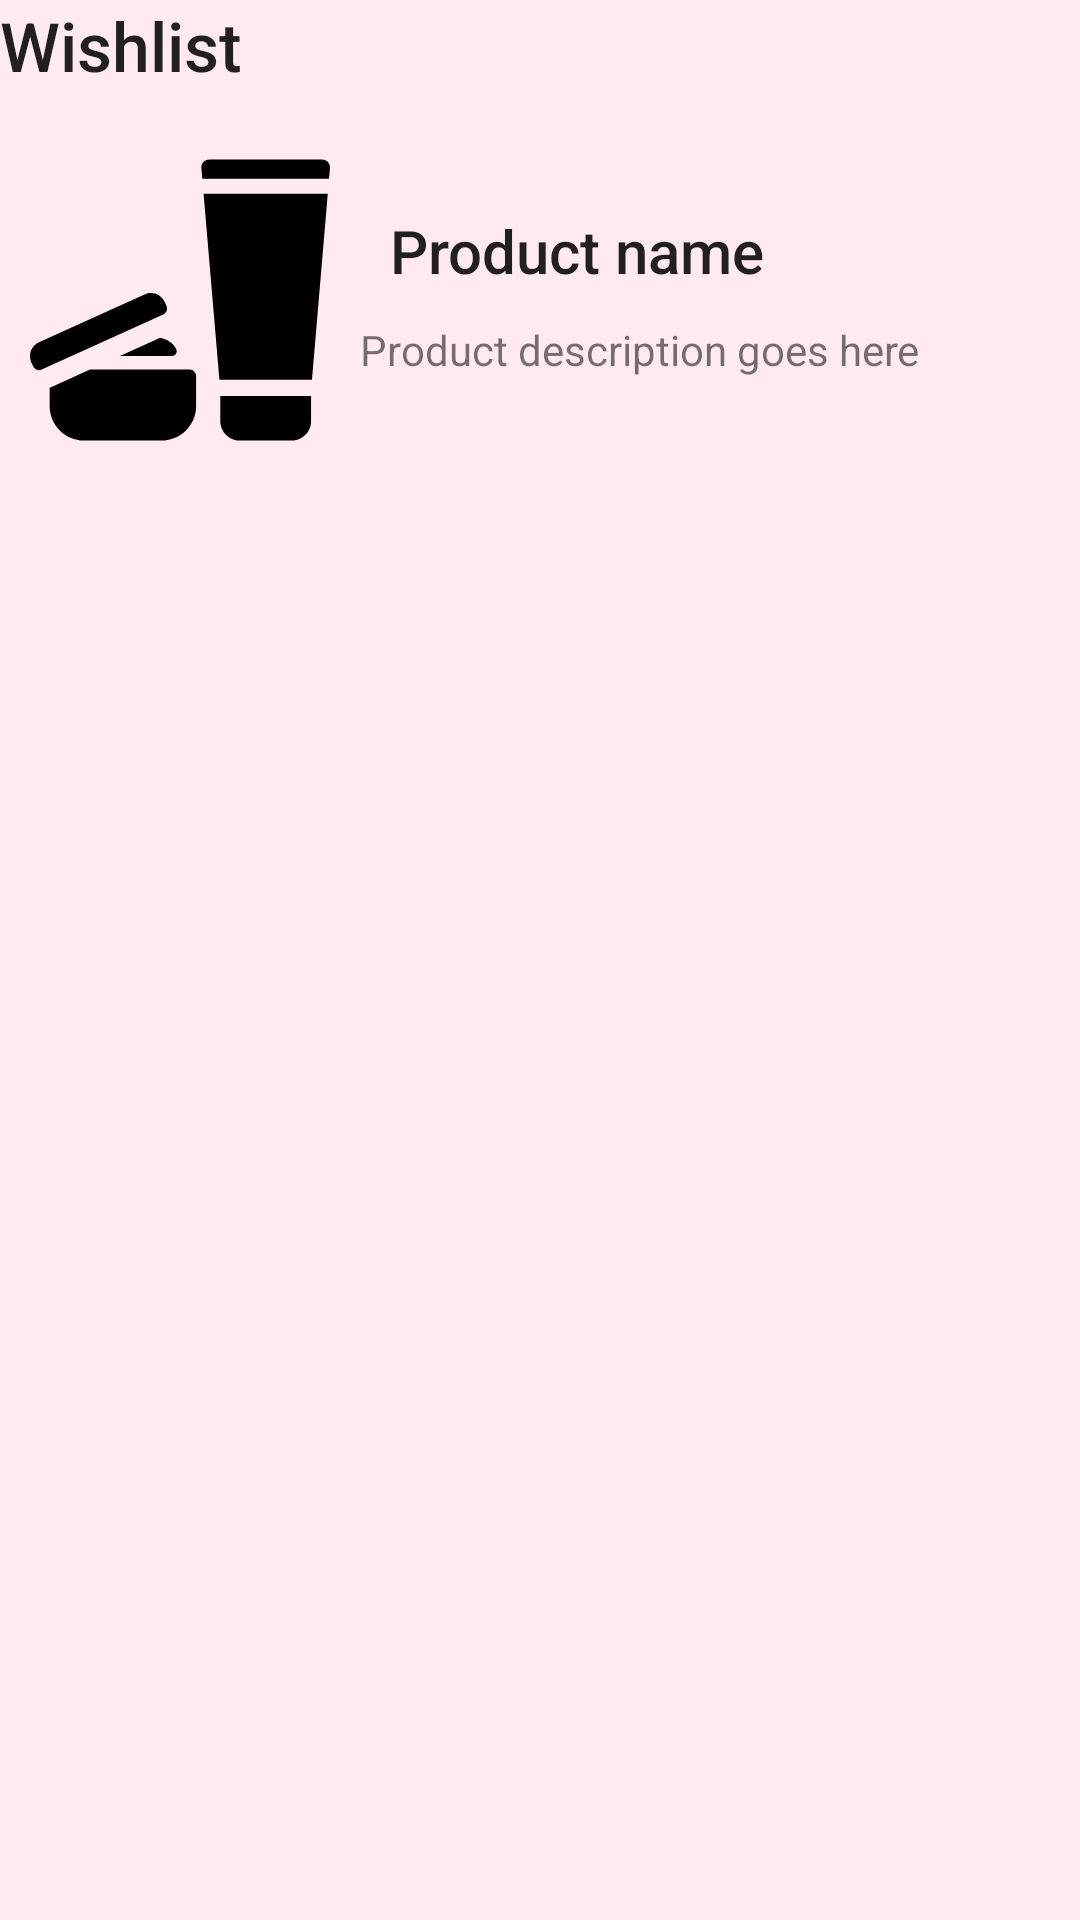

Icon click points for this 1080px x 1920px phone screenshot, format (x,y):
skincare products: (180,300)
